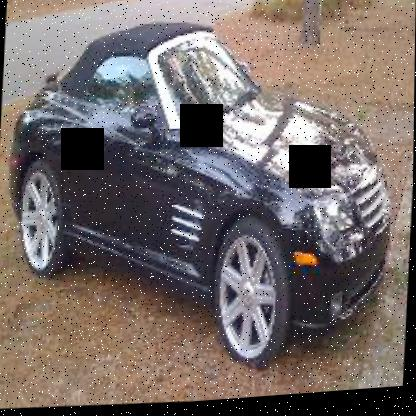not_emergency: (2, 2, 415, 394)
